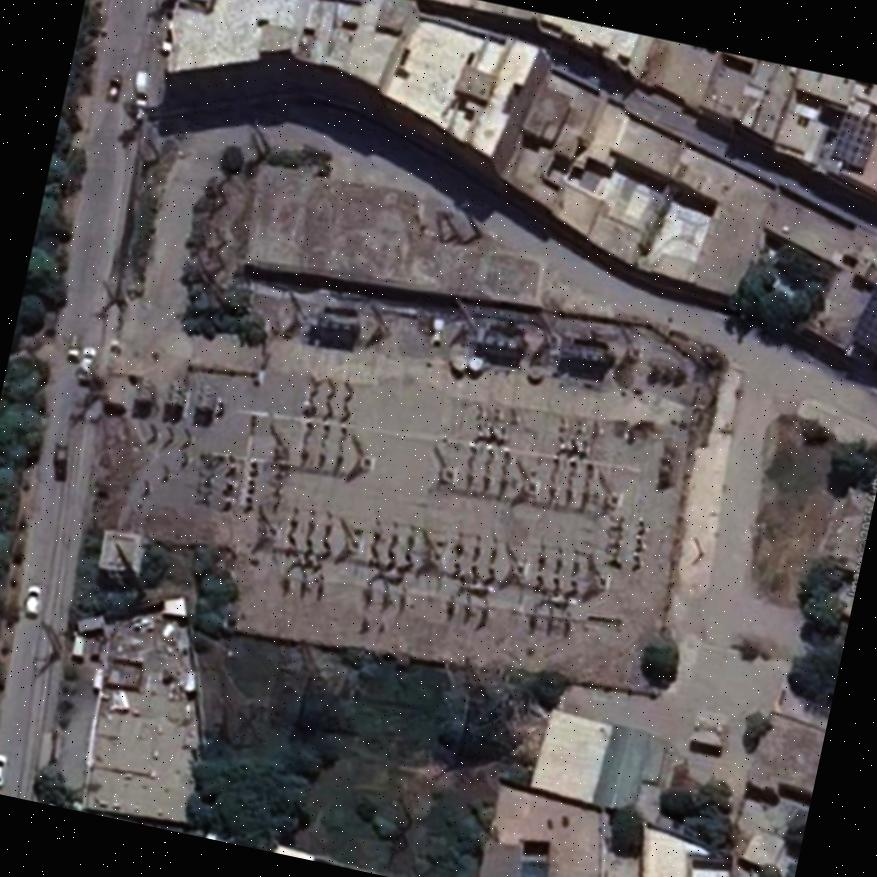Solarpanel: (831, 112, 874, 164), (851, 280, 877, 353)
